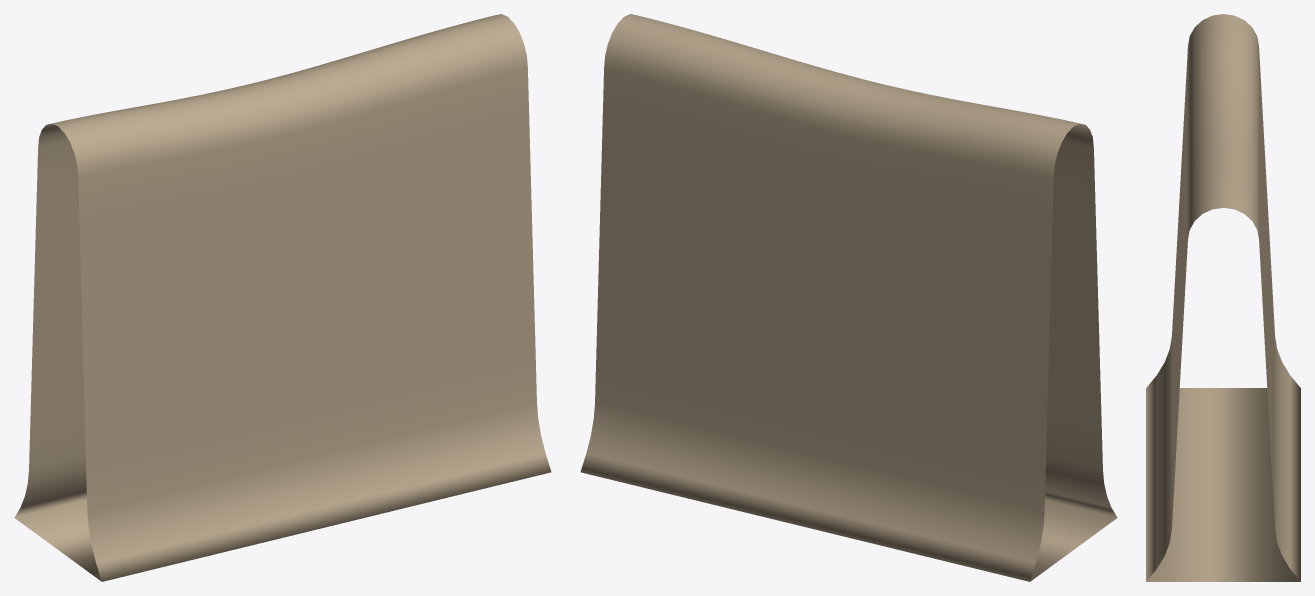
The model's file is KFB_Wall_straight_c.r4.glb.
3 renders of one model, left to right at view 1: azimuth 30°, elevation 25°; view 2: azimuth 150°, elevation 25°; view 3: azimuth 270°, elevation 25°, orthographic. The views are drawn at different scales.
Parts seen in each view (by area): view 1: KFB_Wall_straight_c; view 2: KFB_Wall_straight_c; view 3: KFB_Wall_straight_c.
Boxes of the visible parts, x1,y1,x2,y2 form: KFB_Wall_straight_c: (14, 14, 551, 581); KFB_Wall_straight_c: (580, 14, 1117, 581); KFB_Wall_straight_c: (1146, 14, 1300, 581).
Size of the model in its own units: 4 by 3.6 by 1.35.
